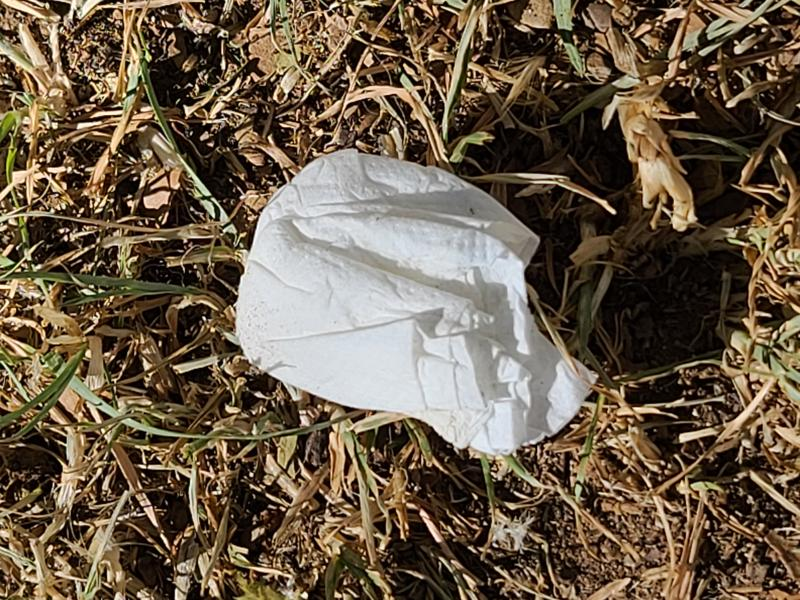papel: (235, 149, 597, 455)
